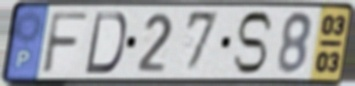2: (134, 12, 175, 75)
7: (183, 9, 223, 77)
8: (275, 10, 314, 77)
D: (82, 10, 129, 76)
F: (39, 10, 91, 76)
S: (230, 10, 275, 77)
